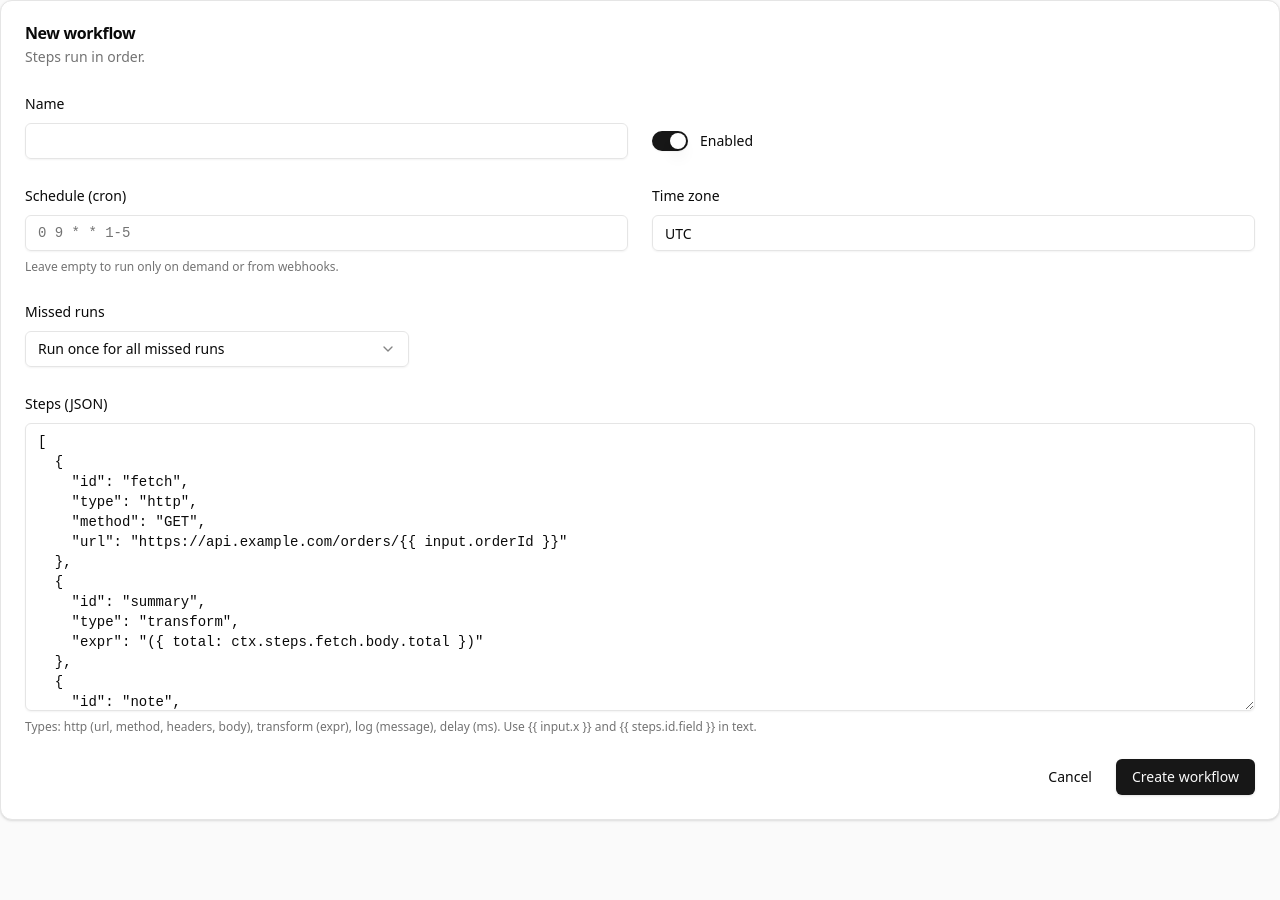
Test: messages for failures that are not answers of the API › explains a lost connection when a workflow cannot be saved
This screenshot has width=1280, height=900.
Type "Orders" into the field labelled "Name".
click(326, 141); type("Orders")  # box [25, 123, 628, 159]
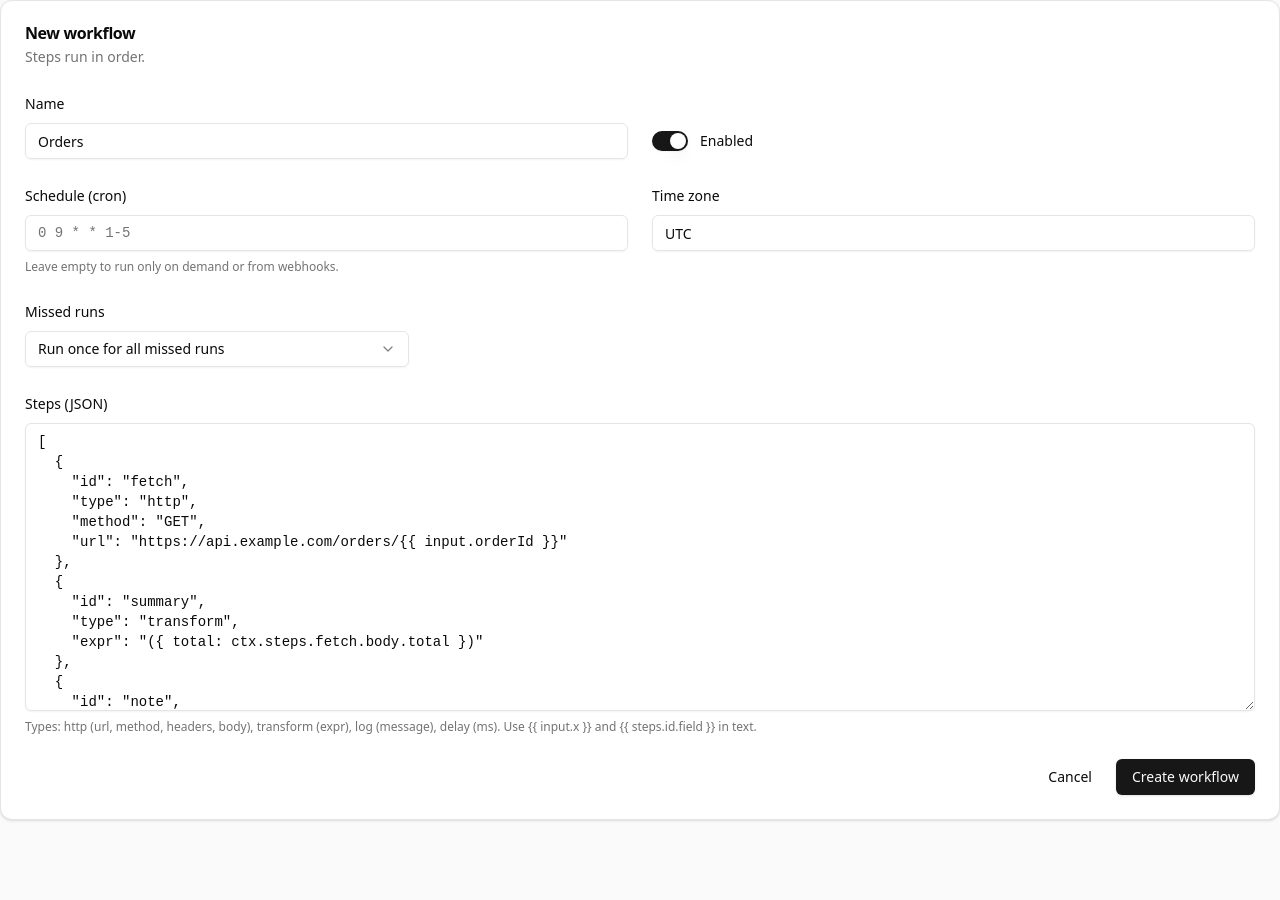
Click the button "Create workflow".
click(1186, 777)  # box [1116, 759, 1255, 795]
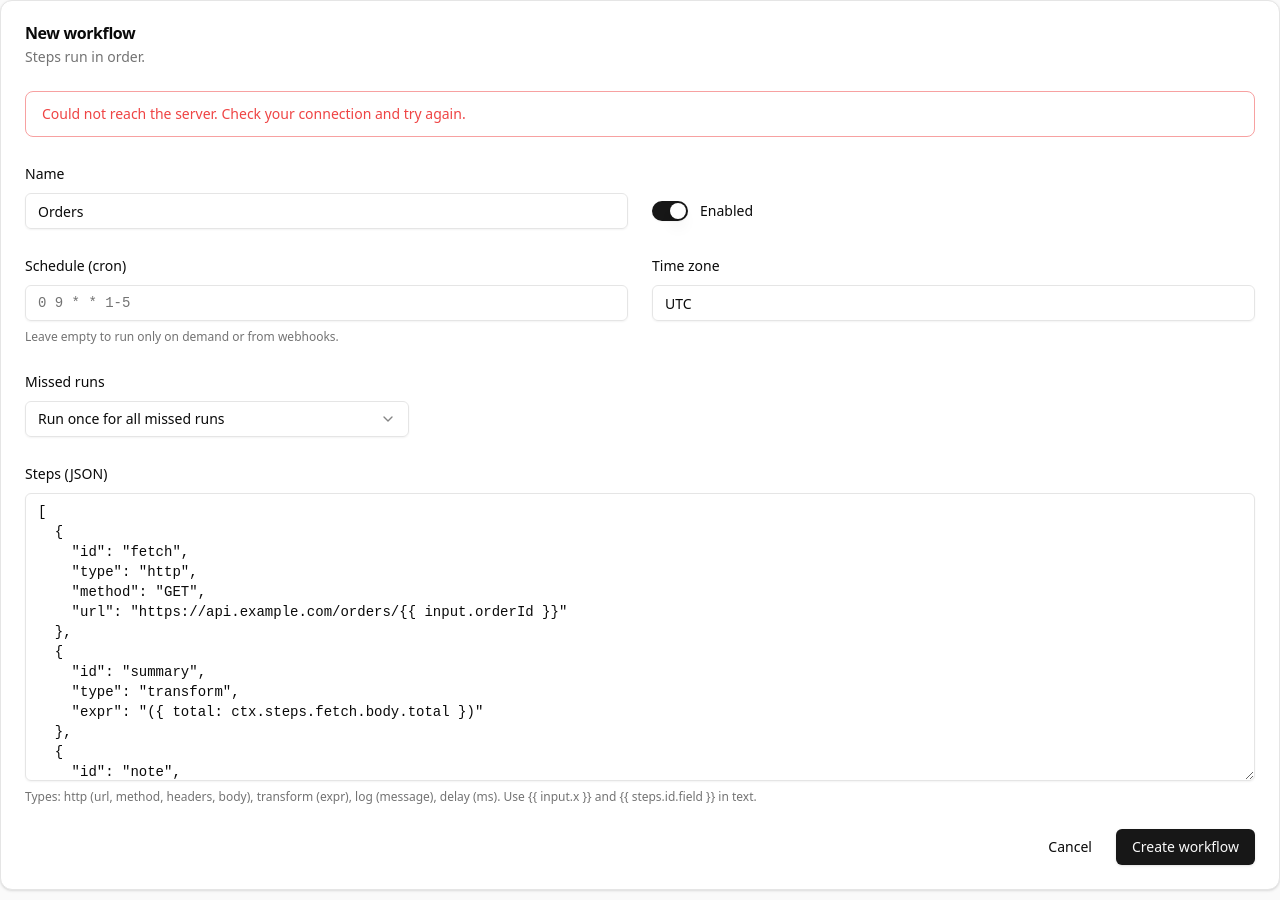
Expected: the text "Could not reach the server. Check your connection and try again." is shown, [42, 104, 466, 124]
